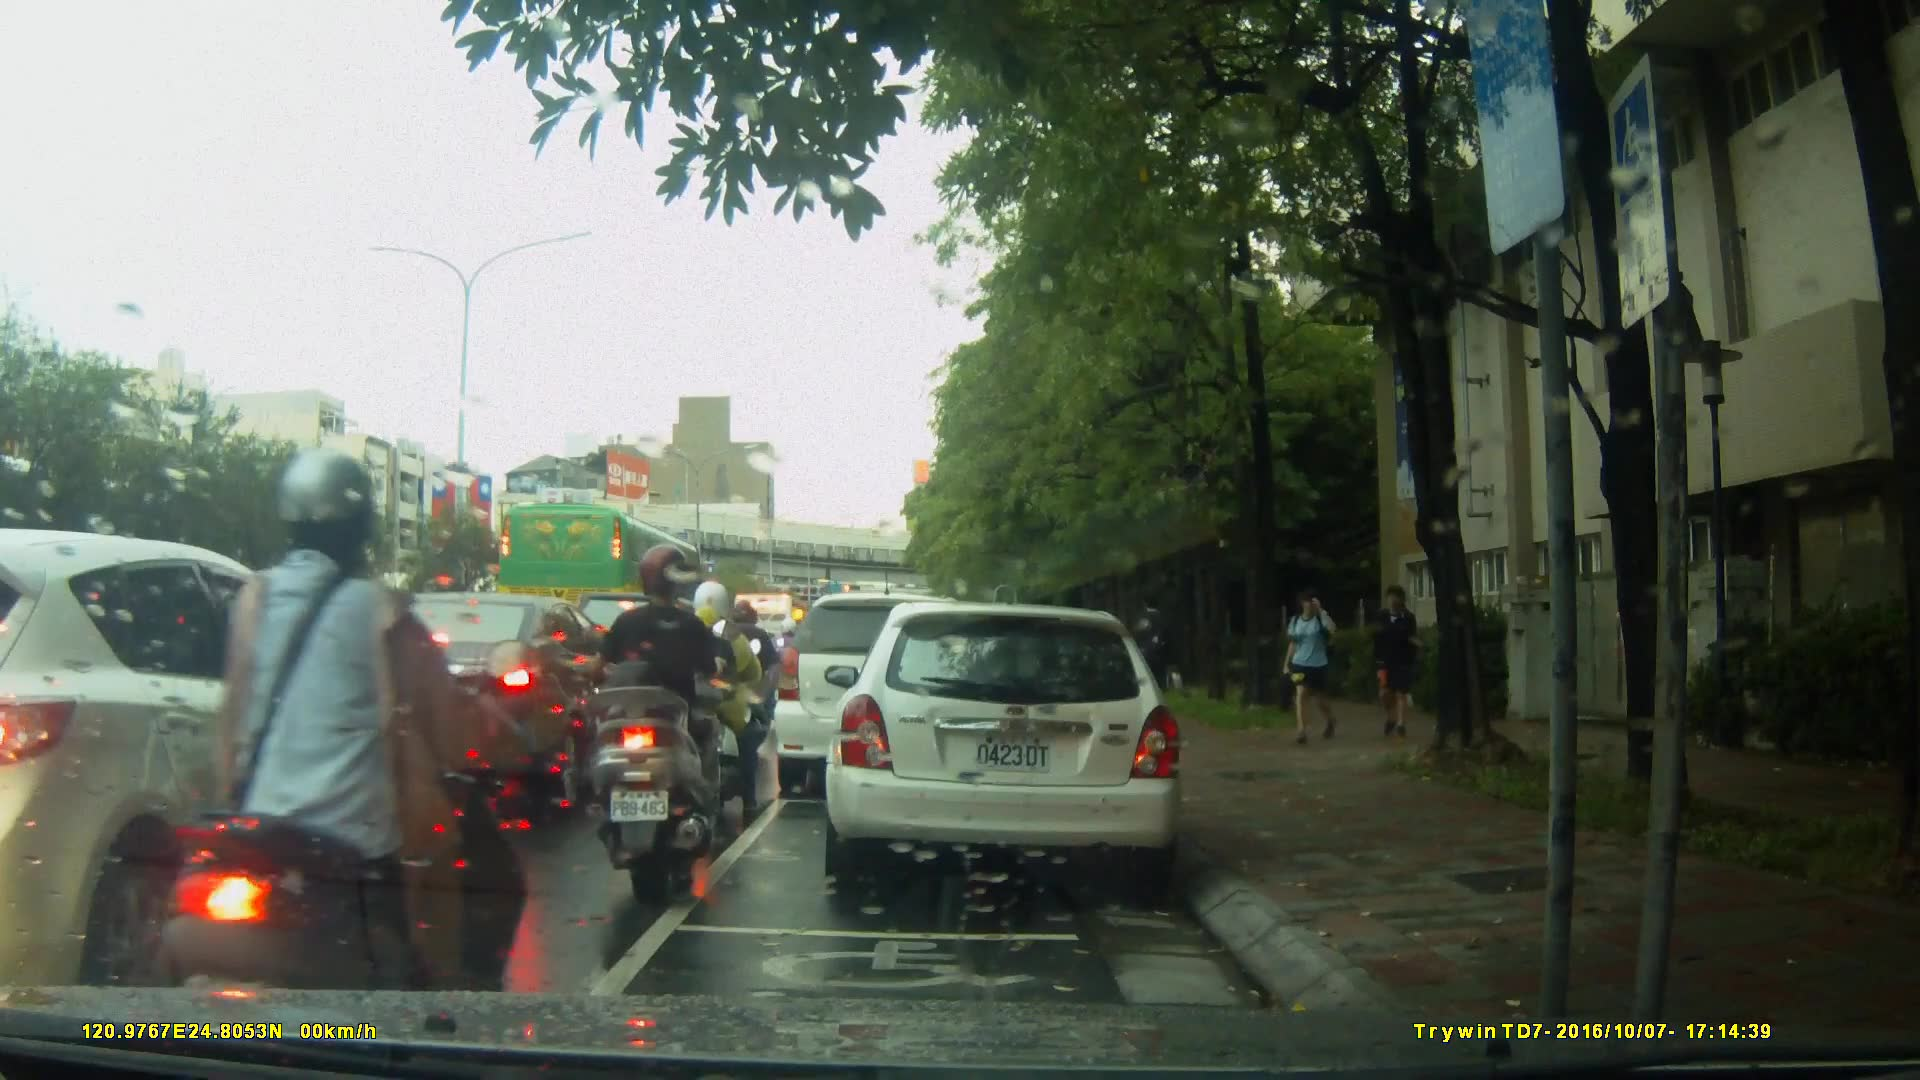pedestrian: (1271, 584, 1355, 748), (1368, 578, 1426, 749), (1129, 594, 1176, 742)
rider: (140, 448, 542, 1068), (590, 545, 724, 893), (679, 577, 766, 814), (766, 617, 812, 714)
vehicle: (1, 529, 445, 986), (831, 592, 1196, 897), (312, 590, 646, 807), (770, 592, 999, 801), (495, 502, 707, 638)
